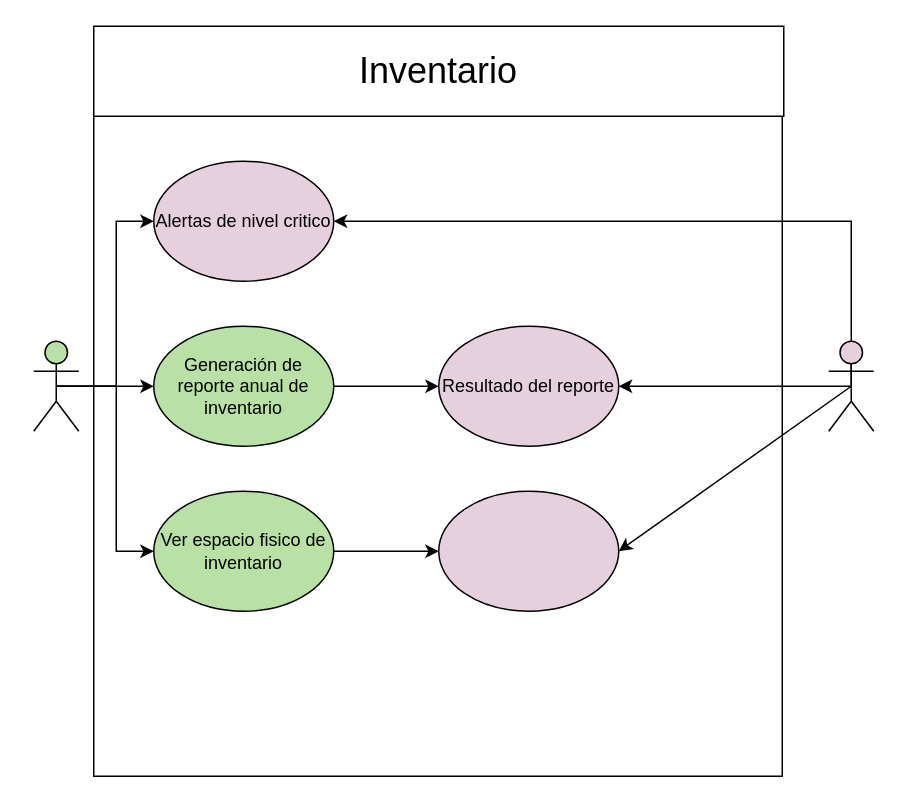
Image size: 909x803. Some labels were removed from this diagram. The shapes that lost their labels are listed below. From the top down, each one's box as (x1, y1, x2, y2) in pixels, then its label:
(32, 340, 79, 431): Usuario
(827, 340, 874, 431): Sistema
(437, 490, 619, 611): Resultado de la busqueda
